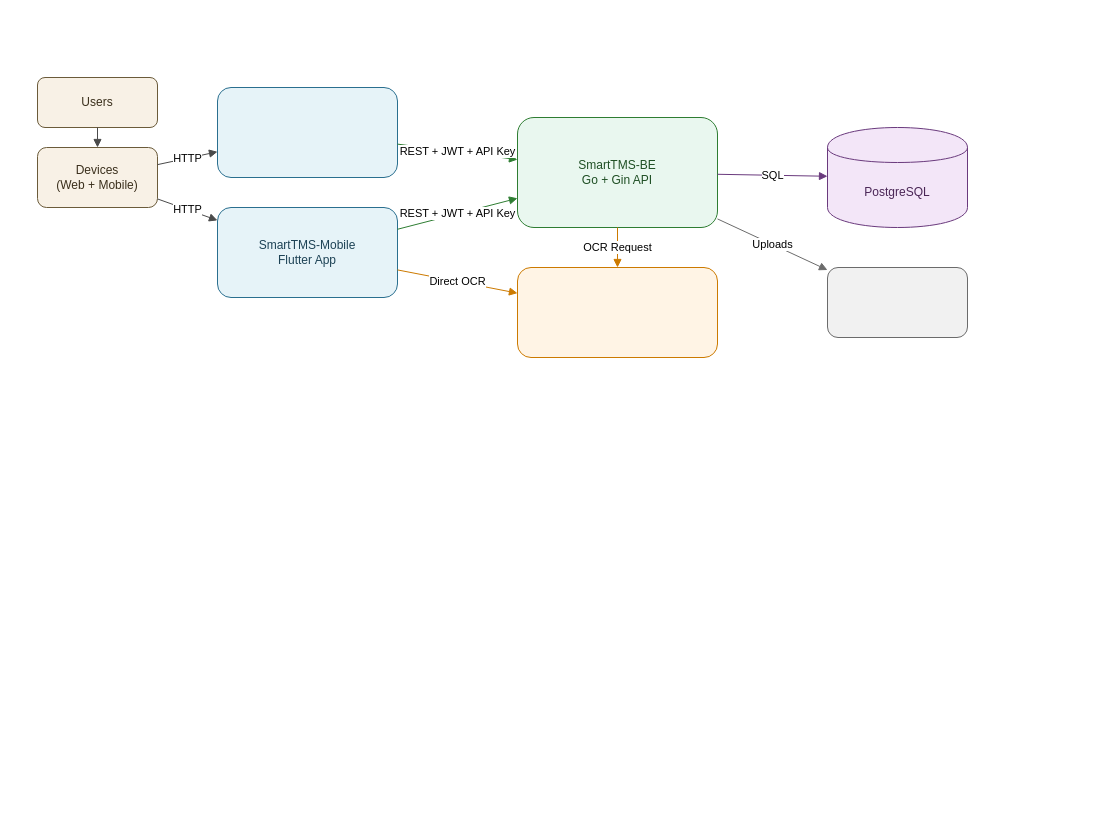
This 1094x824 diagram has some shape labels left out. Each missing label, with the centre of its shape:
"Bill Files (Uploads)" goes at [897,302].
"SmartTMS-AI FastAPI OCR" goes at [617,312].
"SmartTMS-FE Next.js Admin Web" goes at [307,132].
